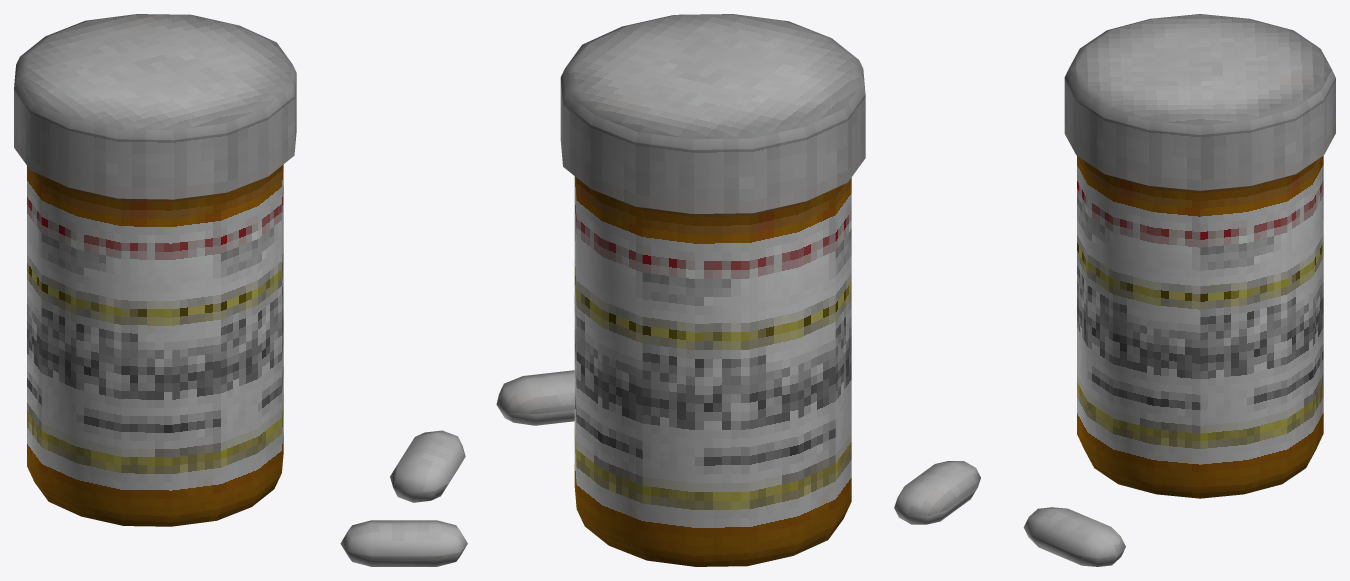
Rendered from pills_bottle_1_1.dae.
3 renders of one model, left to right at view 1: azimuth 30°, elevation 25°; view 2: azimuth 150°, elevation 25°; view 3: azimuth 270°, elevation 25°, orthographic. The views are drawn at different scales.
Visible parts, largest first — view 1: pills_bottle_1_1; view 2: pills_bottle_1_1; view 3: pills_bottle_1_1.
Boxes of the visible parts, bbox=[...] form: pills_bottle_1_1: bbox=[14, 14, 467, 566]; pills_bottle_1_1: bbox=[496, 14, 865, 566]; pills_bottle_1_1: bbox=[894, 14, 1335, 566].
Bounding box in the file's own units: 0.1259 × 0.1354 × 0.1333.
Materials: 1 (1 with a texture image).
